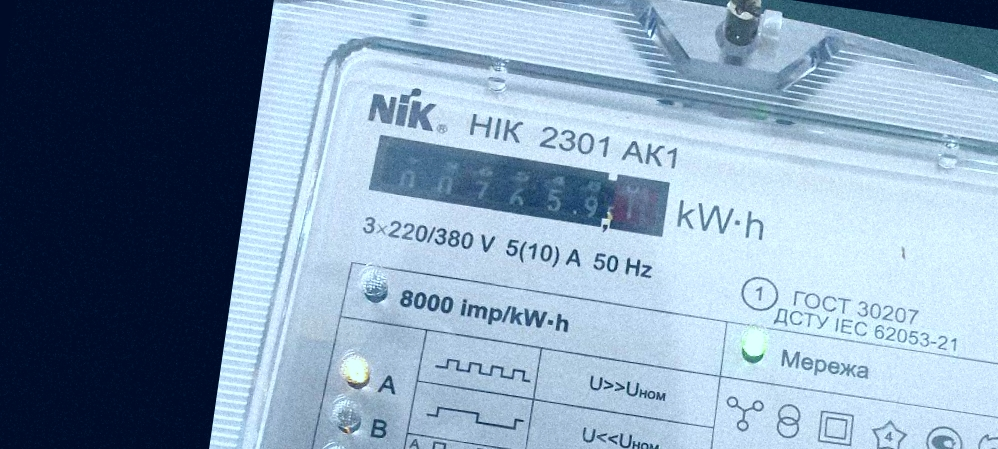0: (395, 164, 417, 193), (433, 171, 455, 198)
1: (620, 191, 639, 224)
5: (541, 184, 567, 214)
6: (505, 182, 528, 209)
7: (469, 177, 492, 204)
9: (578, 192, 600, 221)
screen: (355, 120, 683, 255)
